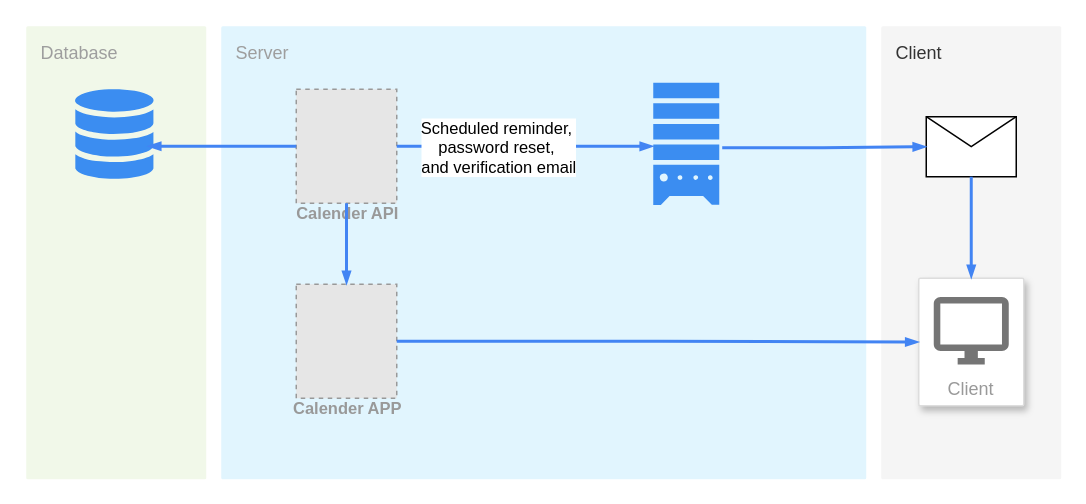
The diagram is 1086 pixels wide and 504 high, and some of its shapes have lost their labels. Grey dashed boxes stand in for pictures. Here are the shapes that lost their labels. From the top down, the centre of each, then its label:
[114,133]: PostgreSQL Database
[685,143]: SMTP Mail Server
[970,146]: Email
